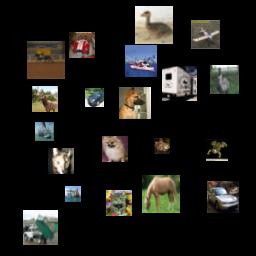airplane: (191, 20, 220, 49)
automobile: (207, 181, 239, 213), (69, 32, 95, 58), (85, 88, 104, 107)
bird: (135, 6, 173, 44), (210, 65, 239, 94)
cat: (106, 190, 132, 216), (48, 148, 74, 174)
deer: (32, 86, 58, 112)
dog: (119, 87, 151, 119), (102, 136, 128, 162)
frog: (206, 139, 228, 161), (154, 138, 170, 154)
ship: (125, 45, 157, 77), (35, 122, 54, 141), (65, 186, 81, 202)
truck: (23, 210, 58, 245), (162, 66, 197, 101)
